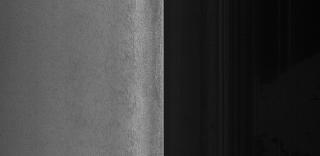silk spot: (107, 62, 131, 100)
